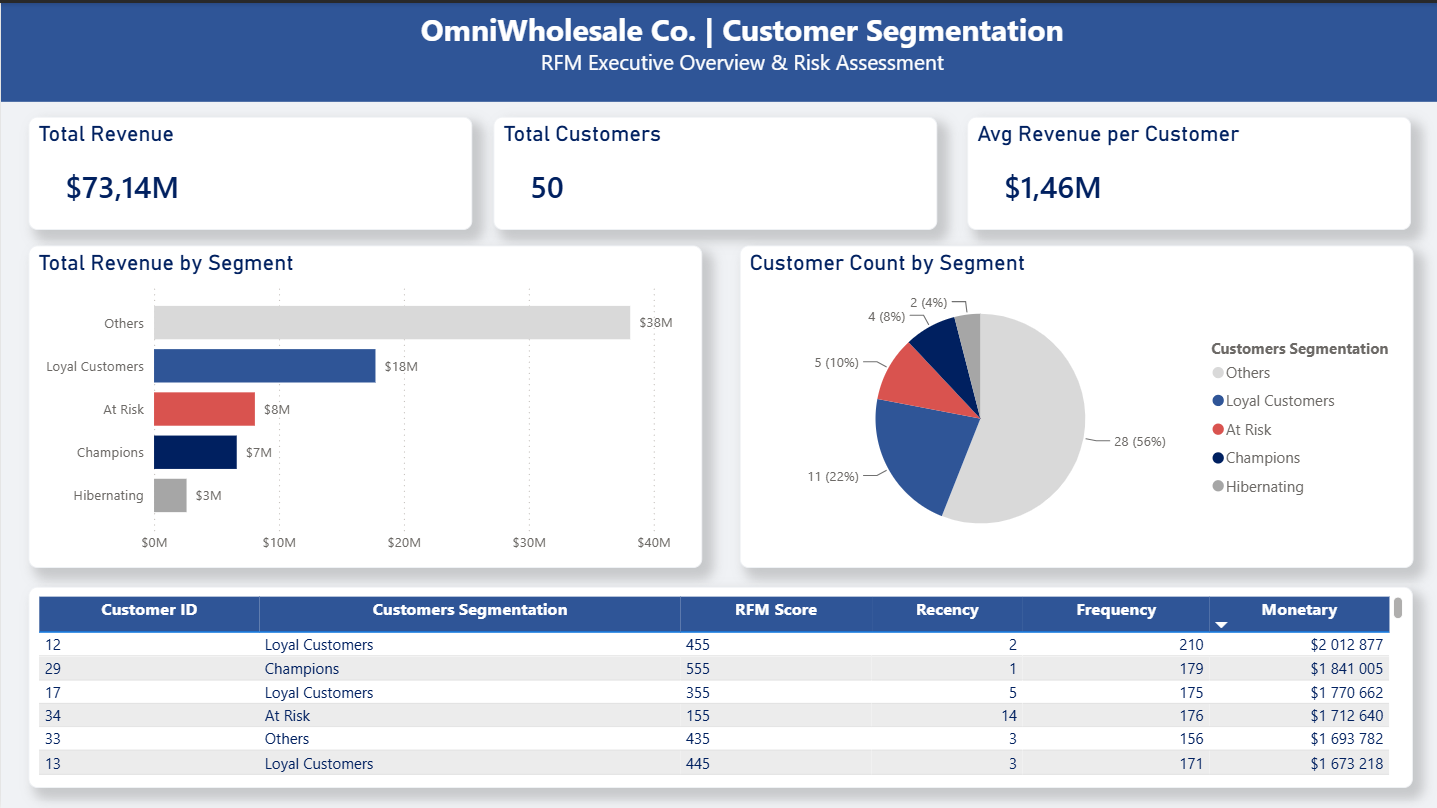

What the dashboard file says about the page in this screenshot:
{"tool":"powerbi","page":{"name":"Customer Segmentation","canvas":[1280,720],"ordinal":0},"visuals":[{"type":"cardVisual","title":"Total Revenue","fields":{"Data":["rfm_segmented_data.Total Revenue"]},"box":[24.5,101.8,395,100.6],"z":0},{"type":"cardVisual","title":"Total Customers","fields":{"Data":["rfm_segmented_data.Total Customers"]},"box":[438,101.8,395,100.6],"z":1000},{"type":"cardVisual","title":"Avg Revenue per Customer","fields":{"Data":["rfm_segmented_data.Avg Revenue per Customer"]},"box":[860.1,101.8,395,100.6],"z":2000},{"type":"clusteredBarChart","title":"Total Revenue by Segment","fields":{"Category":["rfm_segmented_data.customers_segmentation"],"Y":["rfm_segmented_data.Total Revenue"]},"box":[24.5,216,600,287.1],"z":3000},{"type":"pieChart","title":"Customer Count by Segment","fields":{"Category":["rfm_segmented_data.customers_segmentation"],"Y":["rfm_segmented_data.Total Customers"]},"box":[657.7,216,600,287.1],"z":4000},{"type":"tableEx","fields":{"Values":["rfm_segmented_data.CustomerID","rfm_segmented_data.customers_segmentation","rfm_segmented_data.rfm_score","rfm_segmented_data.Recency","rfm_segmented_data.Frequency","Sum(rfm_segmented_data.Monetary)"]},"box":[24.5,520.2,1233.1,179.1],"z":5000},{"type":"textbox","box":[0,0,1280.2,88.4],"z":8000}]}

Visuals, with their boxes in screenshot pixels (x1, y1, x2, y2), scaled from the page's 1280x720 canvas onto the 1437x808 screenshot:
"Total Revenue" cardVisual: 28, 114, 471, 227
"Total Customers" cardVisual: 492, 114, 935, 227
"Avg Revenue per Customer" cardVisual: 966, 114, 1409, 227
"Total Revenue by Segment" clusteredBarChart: 28, 242, 701, 565
"Customer Count by Segment" pieChart: 738, 242, 1412, 565
tableEx - rfm_segmented_data.CustomerID x rfm_segmented_data.customers_segmentation: 28, 584, 1412, 785
textbox: 0, 0, 1436, 99
